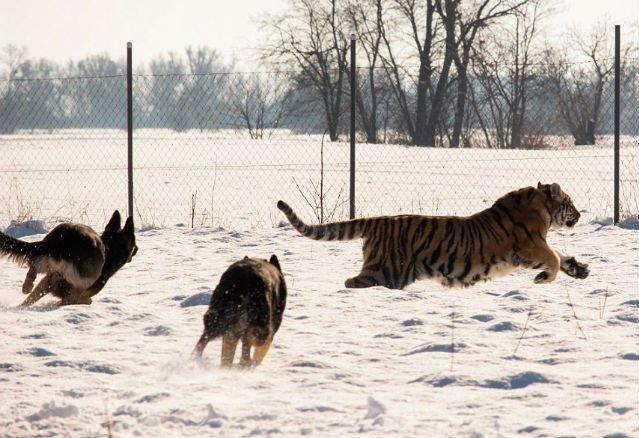dog: (1, 212, 145, 307), (191, 254, 289, 370)
tiger: (306, 182, 593, 295)
